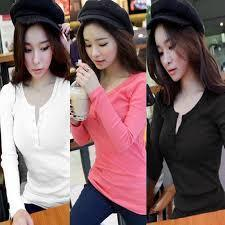Tshirt: (70, 69, 146, 215), (148, 83, 225, 219), (1, 78, 70, 216)
pants: (70, 182, 148, 225)
